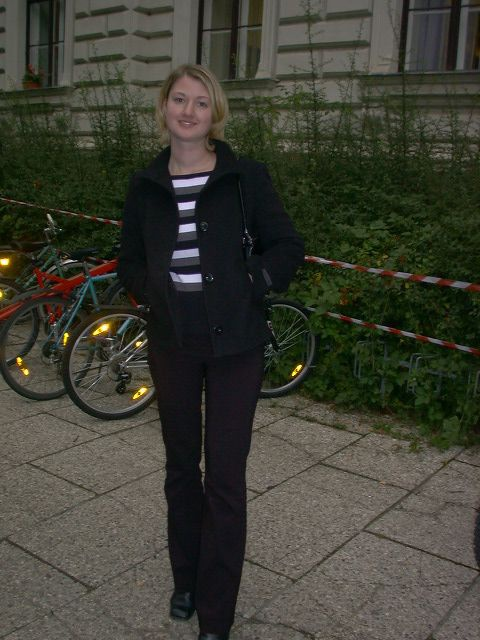person: (121, 63, 298, 631)
